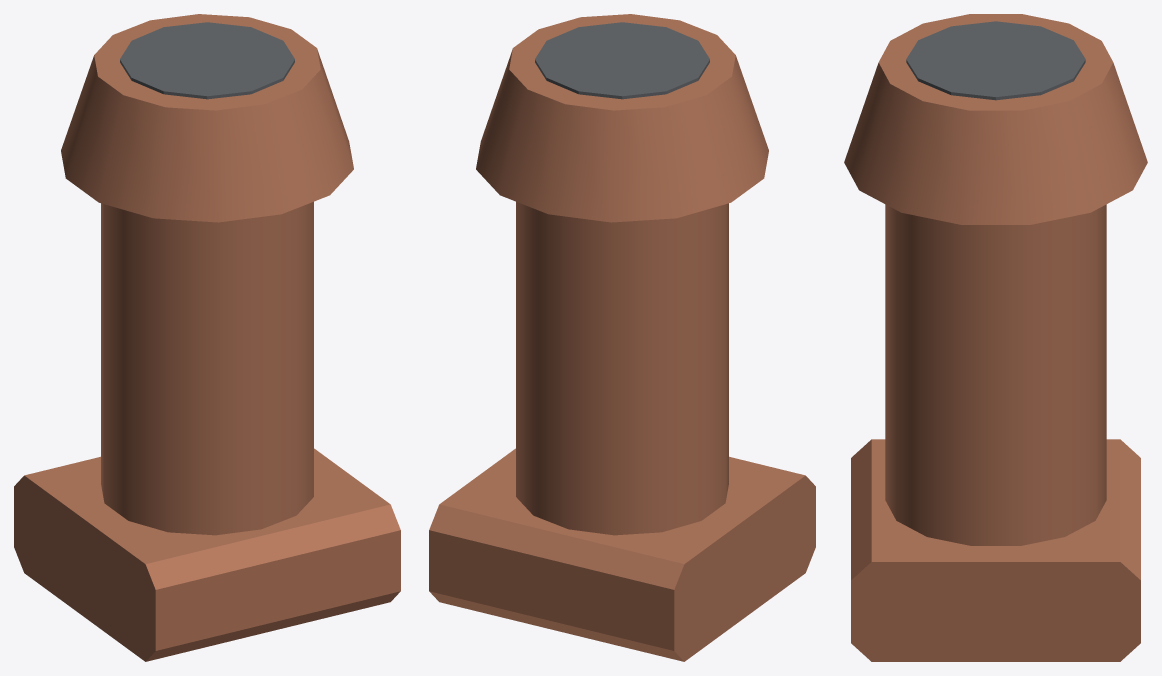
Rendered from chimney_pot.glb.
3 views of the same model, side by side, from view 1: azimuth 30°, elevation 25°; view 2: azimuth 150°, elevation 25°; view 3: azimuth 270°, elevation 25° (orthographic). The views are drawn at different scales.
Visible parts, largest first — view 1: chimney_pot; view 2: chimney_pot; view 3: chimney_pot.
Part boxes in pixels (x1=…): chimney_pot: x1=14, y1=14, x2=400, y2=661; chimney_pot: x1=429, y1=14, x2=815, y2=661; chimney_pot: x1=844, y1=14, x2=1147, y2=661.
Bounding box in the file's own units: 0.429 × 0.865 × 0.44.
